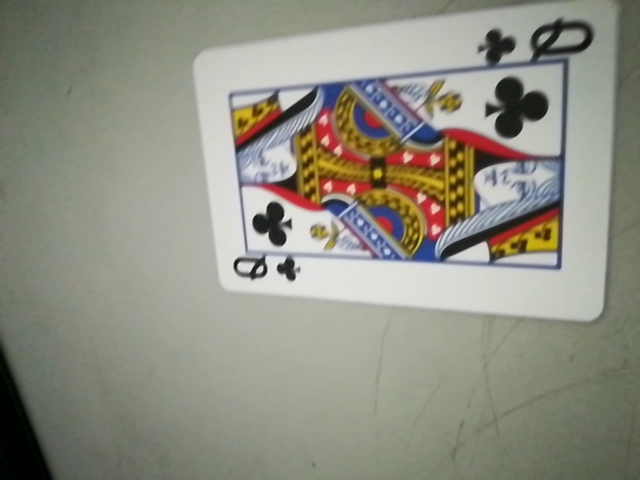mh j: (478, 16, 596, 68), (227, 245, 301, 294)
